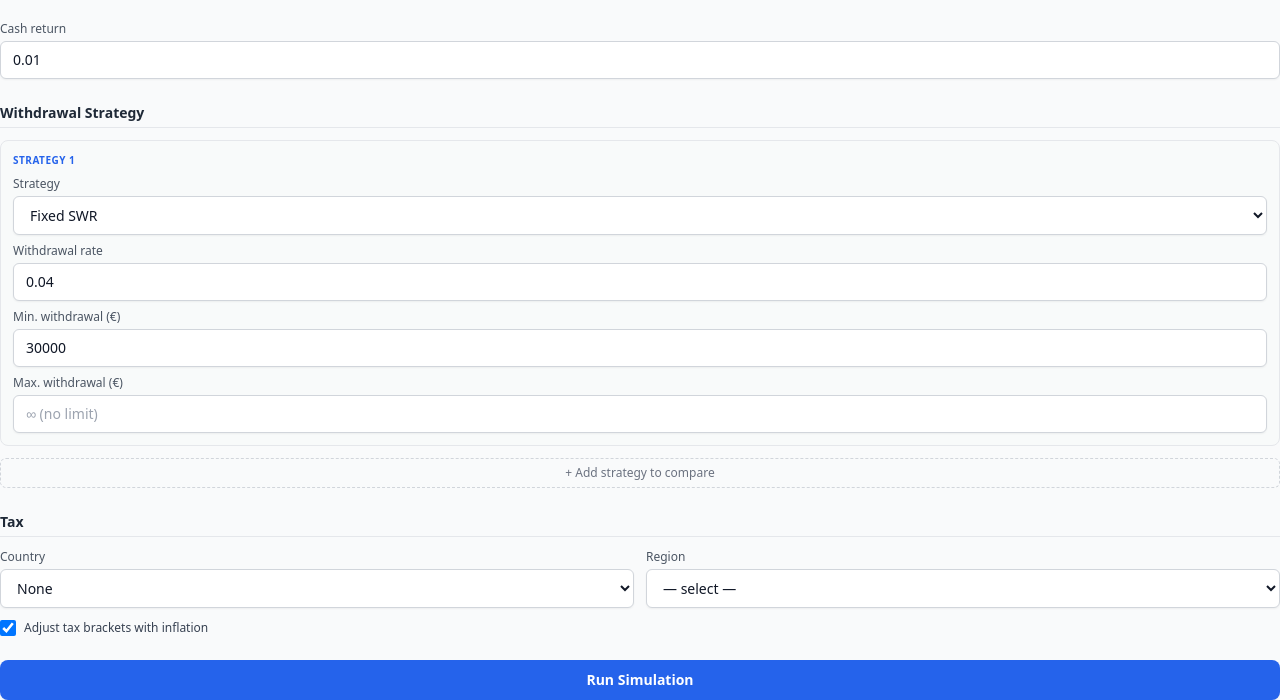
ConfigForm strategy management › can remove a strategy
(page scrolled)
Click the button "+ Add strategy to compare".
click(640, 473)  # box x1=0 y1=458 x2=1279 y2=488
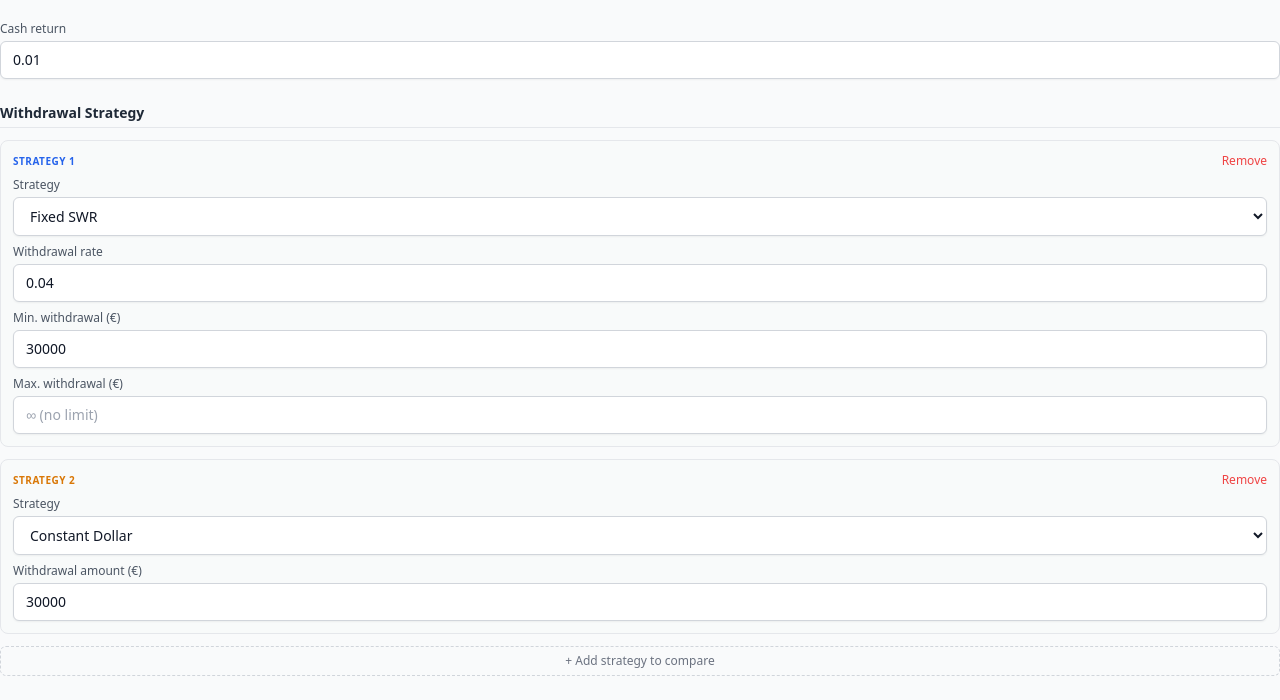
Check: the text "Strategy 2" is shown, box x1=13 y1=472 x2=75 y2=488
Click the first Remove button
Click the 1st button "Remove".
click(1244, 161)  # box x1=1222 y1=153 x2=1267 y2=169
(page scrolled)
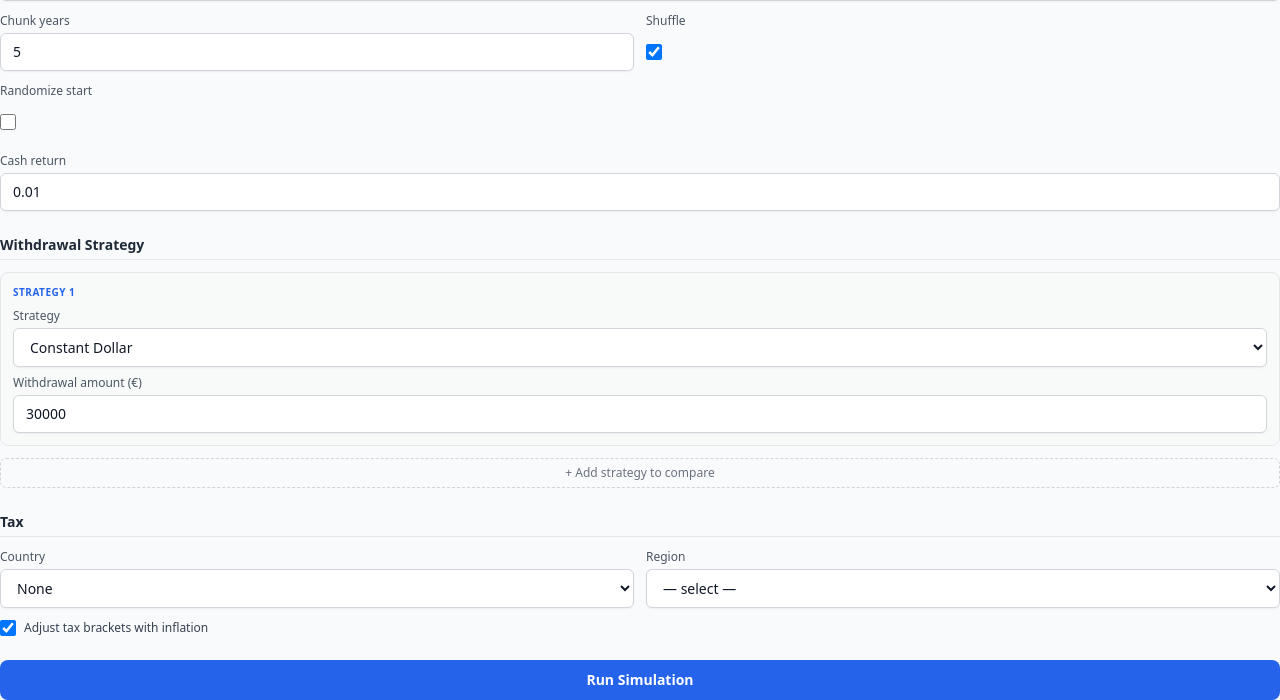
Check: the text "Strategy 1" is shown, box x1=13 y1=285 x2=75 y2=300
Check: the text "Strategy 2" is gone
